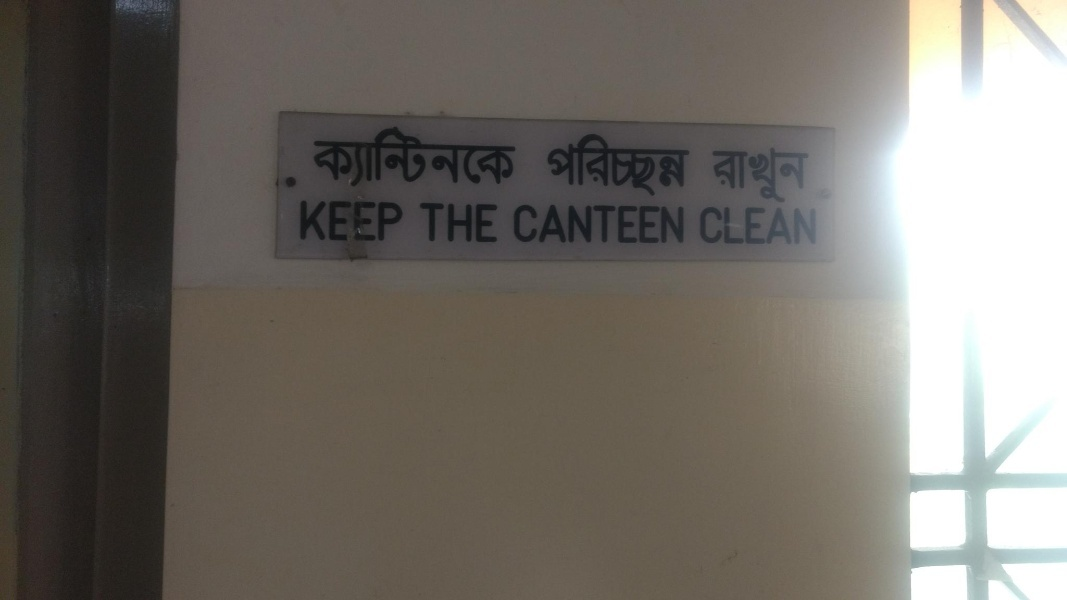text: (321, 124, 336, 189), (337, 124, 352, 189), (353, 124, 368, 189), (369, 124, 384, 189), (385, 124, 400, 189), (401, 124, 416, 189), (417, 124, 432, 189), (433, 124, 448, 189), (449, 124, 464, 189), (465, 124, 480, 189), (481, 124, 496, 189), (497, 124, 512, 189), (561, 133, 576, 197), (577, 133, 592, 197), (593, 133, 608, 197), (609, 133, 624, 197), (625, 133, 640, 197), (641, 133, 656, 197), (657, 133, 672, 197), (673, 133, 688, 197), (721, 143, 736, 204), (737, 143, 752, 204), (753, 143, 768, 204), (769, 143, 784, 204), (785, 143, 800, 204), (513, 124, 527, 189), (546, 133, 560, 197), (305, 199, 320, 244), (321, 199, 336, 244), (337, 199, 352, 244), (353, 199, 368, 244), (369, 199, 384, 244), (385, 199, 400, 244), (433, 203, 448, 244), (449, 203, 464, 244), (465, 203, 480, 244), (481, 203, 496, 244), (529, 205, 544, 245), (545, 205, 560, 245), (561, 205, 576, 245), (577, 205, 592, 245), (593, 205, 608, 245), (609, 205, 624, 245), (625, 205, 640, 245), (641, 205, 656, 245), (657, 205, 672, 245), (705, 207, 720, 246), (721, 207, 736, 246), (737, 207, 752, 246), (753, 207, 768, 246), (769, 207, 784, 246), (785, 207, 800, 246), (801, 207, 816, 246), (514, 205, 528, 245), (801, 143, 810, 204), (673, 205, 686, 245), (420, 203, 432, 244), (712, 143, 720, 204), (315, 124, 320, 189), (401, 199, 408, 244), (298, 199, 304, 244), (689, 133, 693, 197), (700, 207, 704, 246), (497, 203, 500, 244), (817, 207, 818, 246)
